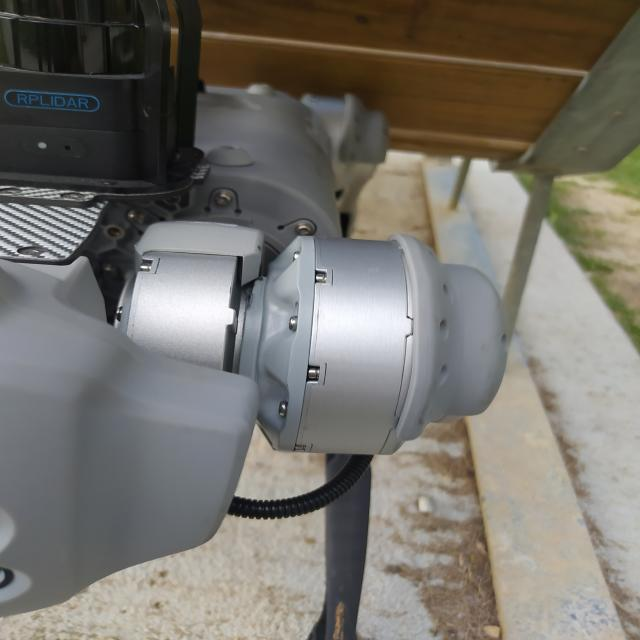unitree-go1-robot: (1, 0, 526, 640)
